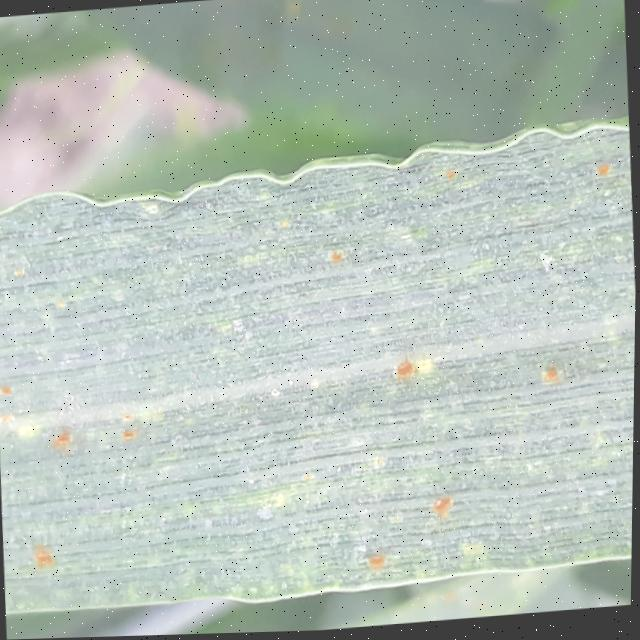orang_rust: (0, 118, 638, 640)
